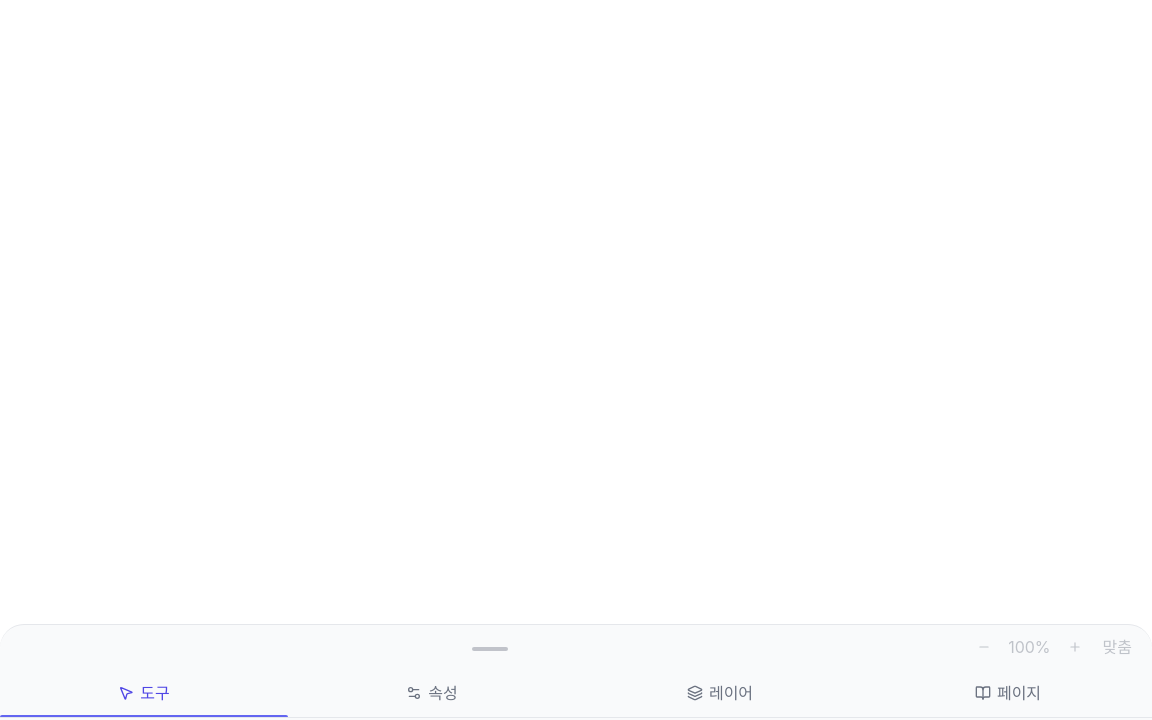
MobileBottomSheet — 탭 전환 › 6b. layers 탭 — 레이어 없음 안내
Step 1. Click the button named "패널 열기" → click(490, 647), box [12, 625, 968, 669]
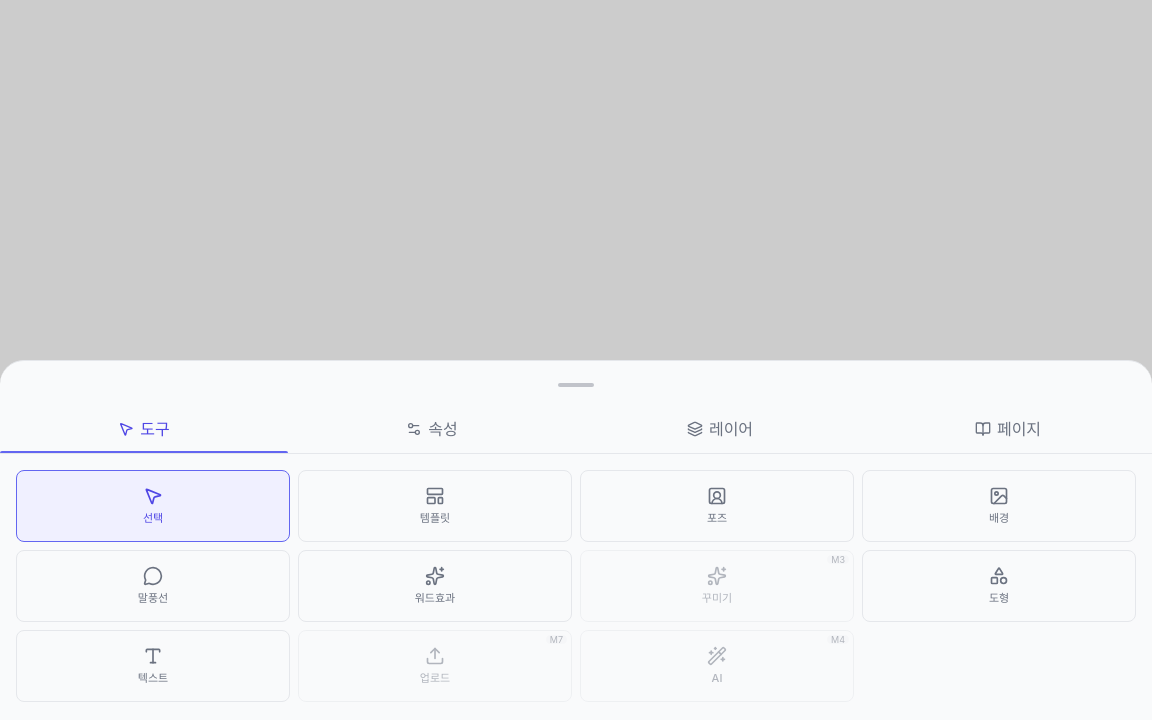
Step 2. Click the tab "레이어" → click(720, 429), box [576, 405, 864, 453]
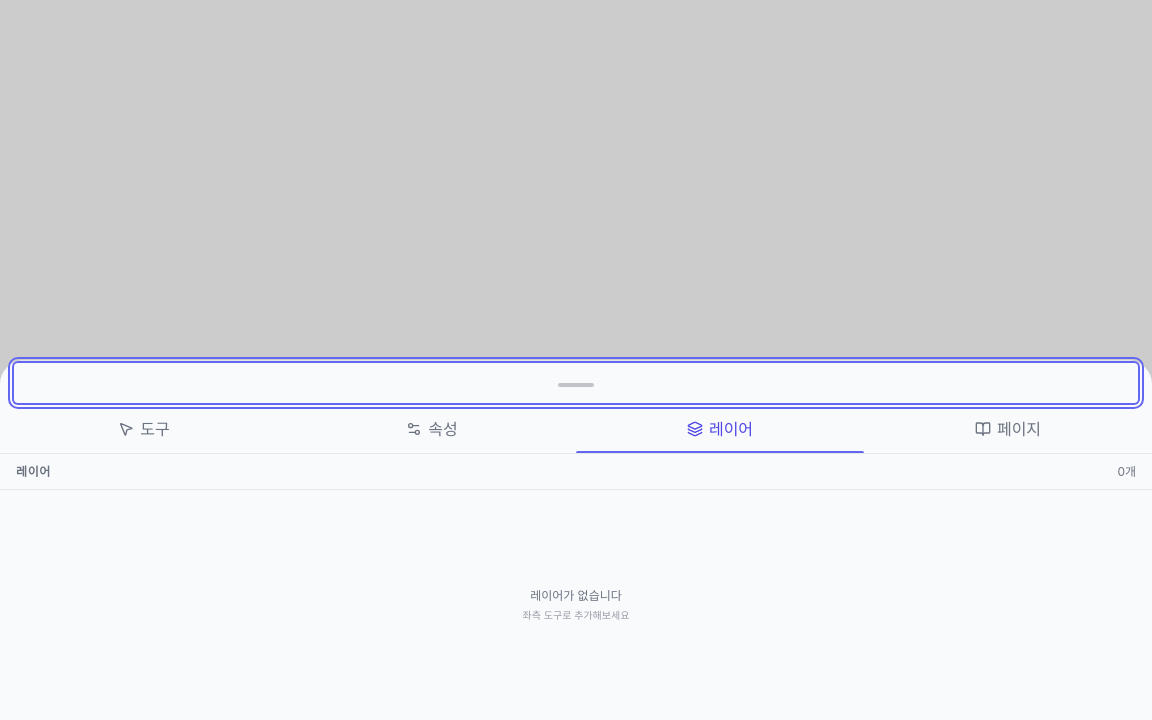
Result: the text "레이어가 없습니다" is shown at [530, 588, 622, 604]
